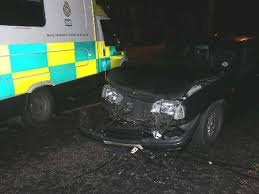Smashed: (92, 84, 195, 145)
